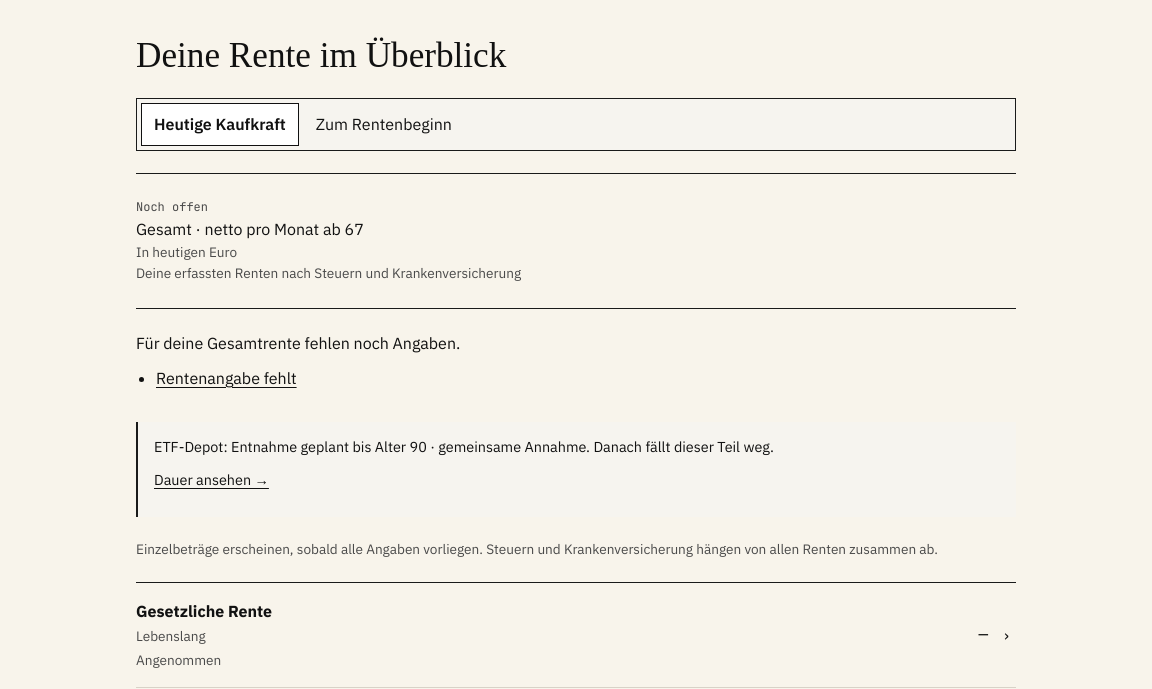
MeinPlanPage — default overview › keeps blocked readiness on the duration view: durations render, source amounts do not
This screenshot has width=1152, height=689.
Step 1. Click the button "Dauer ansehen →" → [211, 480], box [154,458,269,502]
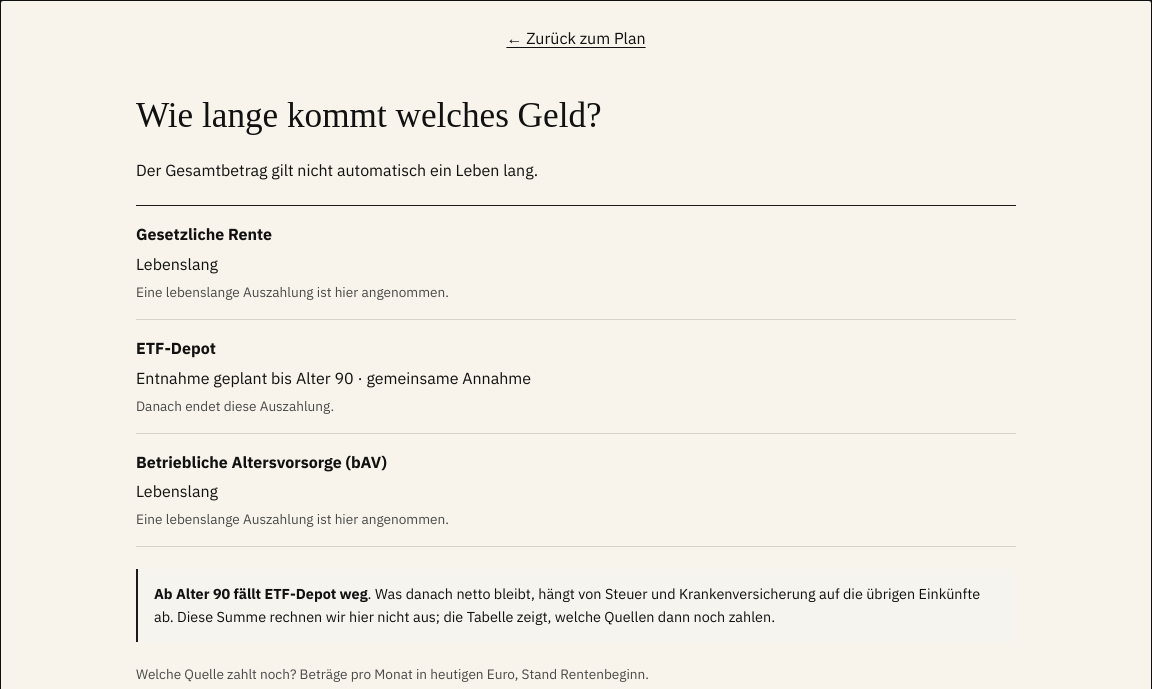
Expected: the heading reads "Wie lange kommt welches Geld?", [136,96,602,135]
